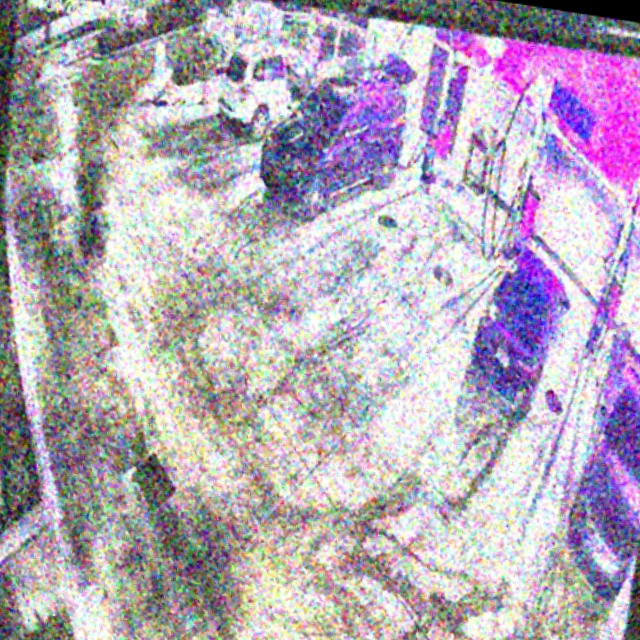Car: (255, 35, 419, 234), (464, 233, 578, 424)
